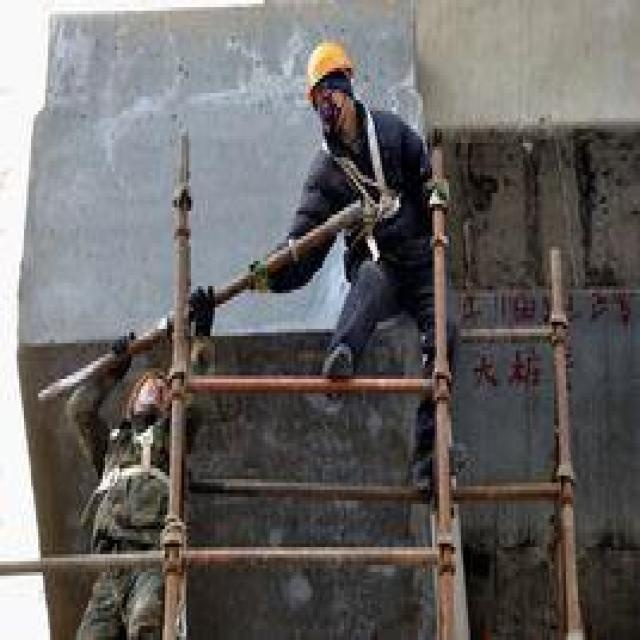Arnes_seguridad: (311, 104, 404, 236), (91, 411, 167, 501)
